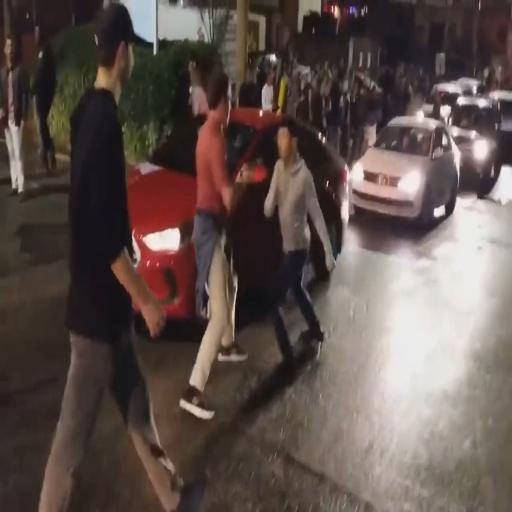violencia: (176, 55, 338, 450)
